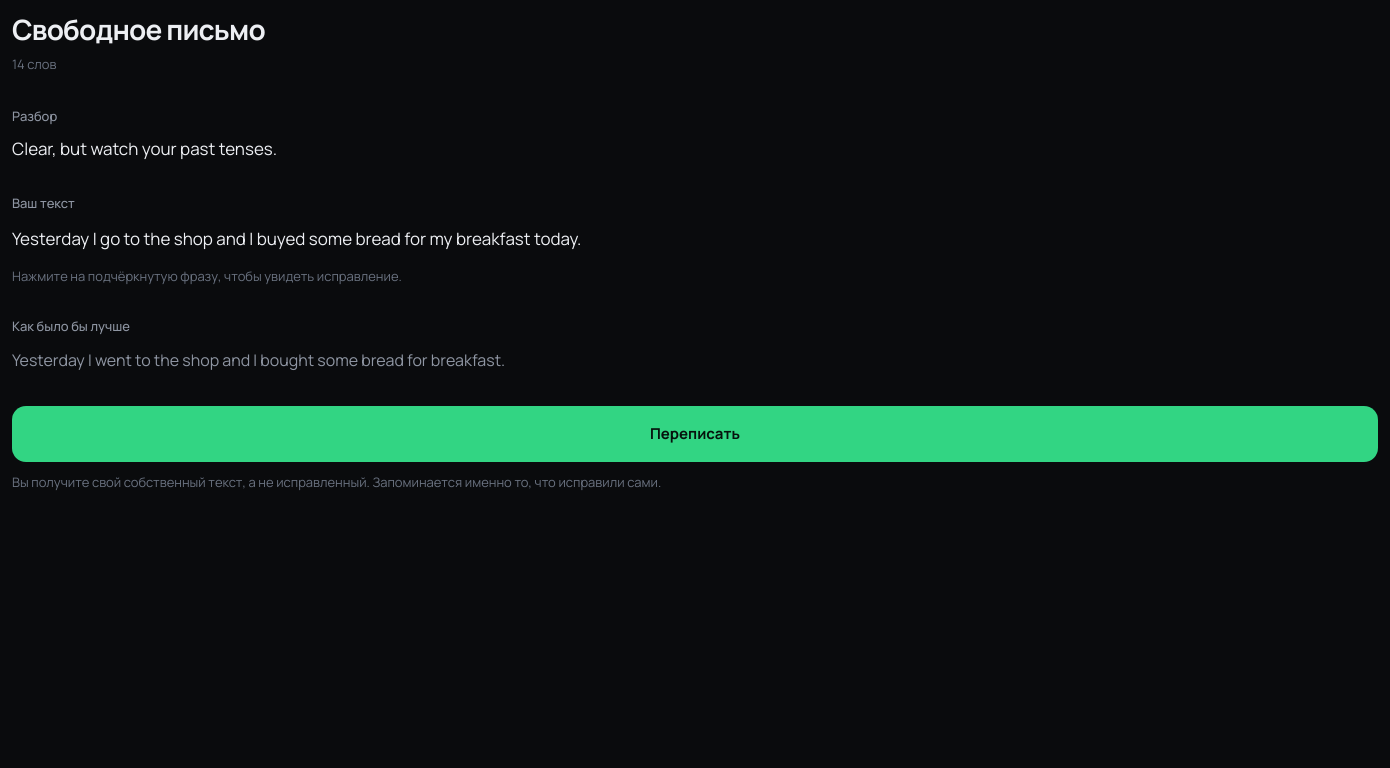
Scenario: the same review, read in Russian › translates the category and the severity, and leaves the skill label alone
Click the button "buyed".
click(281, 238)  # box [257, 227, 305, 250]
(page scrolled)
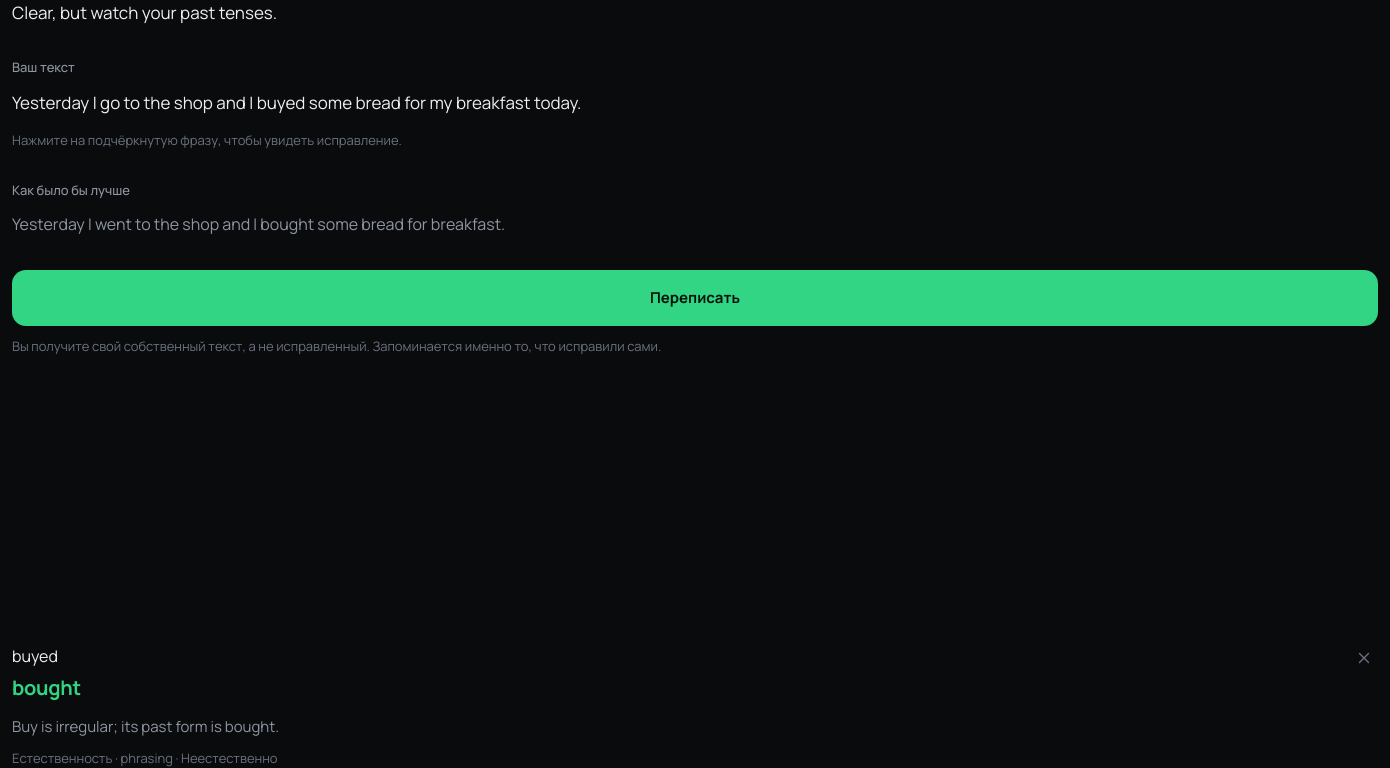
Now the text "Естественность · phrasing · Неестественно" is shown, box [12, 749, 278, 767]
